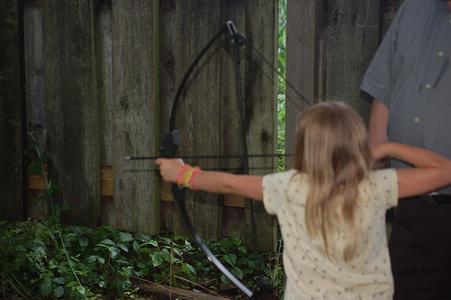person: (153, 101, 451, 300)
